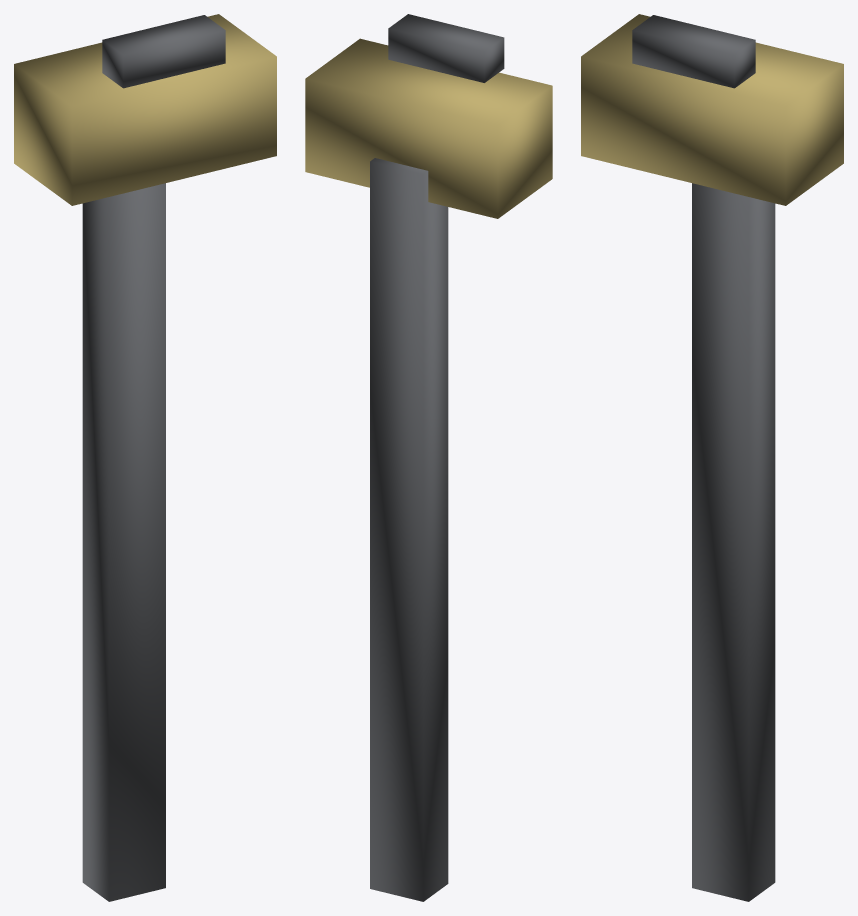
The model's file is dock_light_12.glb.
3 views of the same model, side by side, from view 1: azimuth 30°, elevation 25°; view 2: azimuth 150°, elevation 25°; view 3: azimuth 330°, elevation 25° (orthographic). The views are drawn at different scales.
Visible parts, largest first — view 1: world; view 2: world; view 3: world.
Part boxes in pixels (bbox=[...]): world: bbox=[14, 14, 276, 901]; world: bbox=[305, 14, 552, 901]; world: bbox=[581, 14, 843, 901].
Bounding box in the file's own units: 0.4032 × 1.65 × 0.216.
